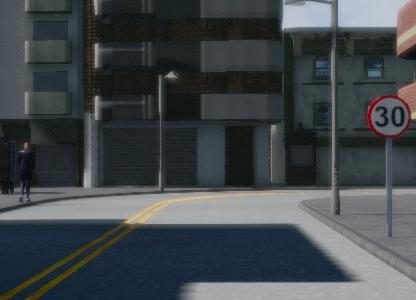Speed_30: (92, 36, 170, 113)
